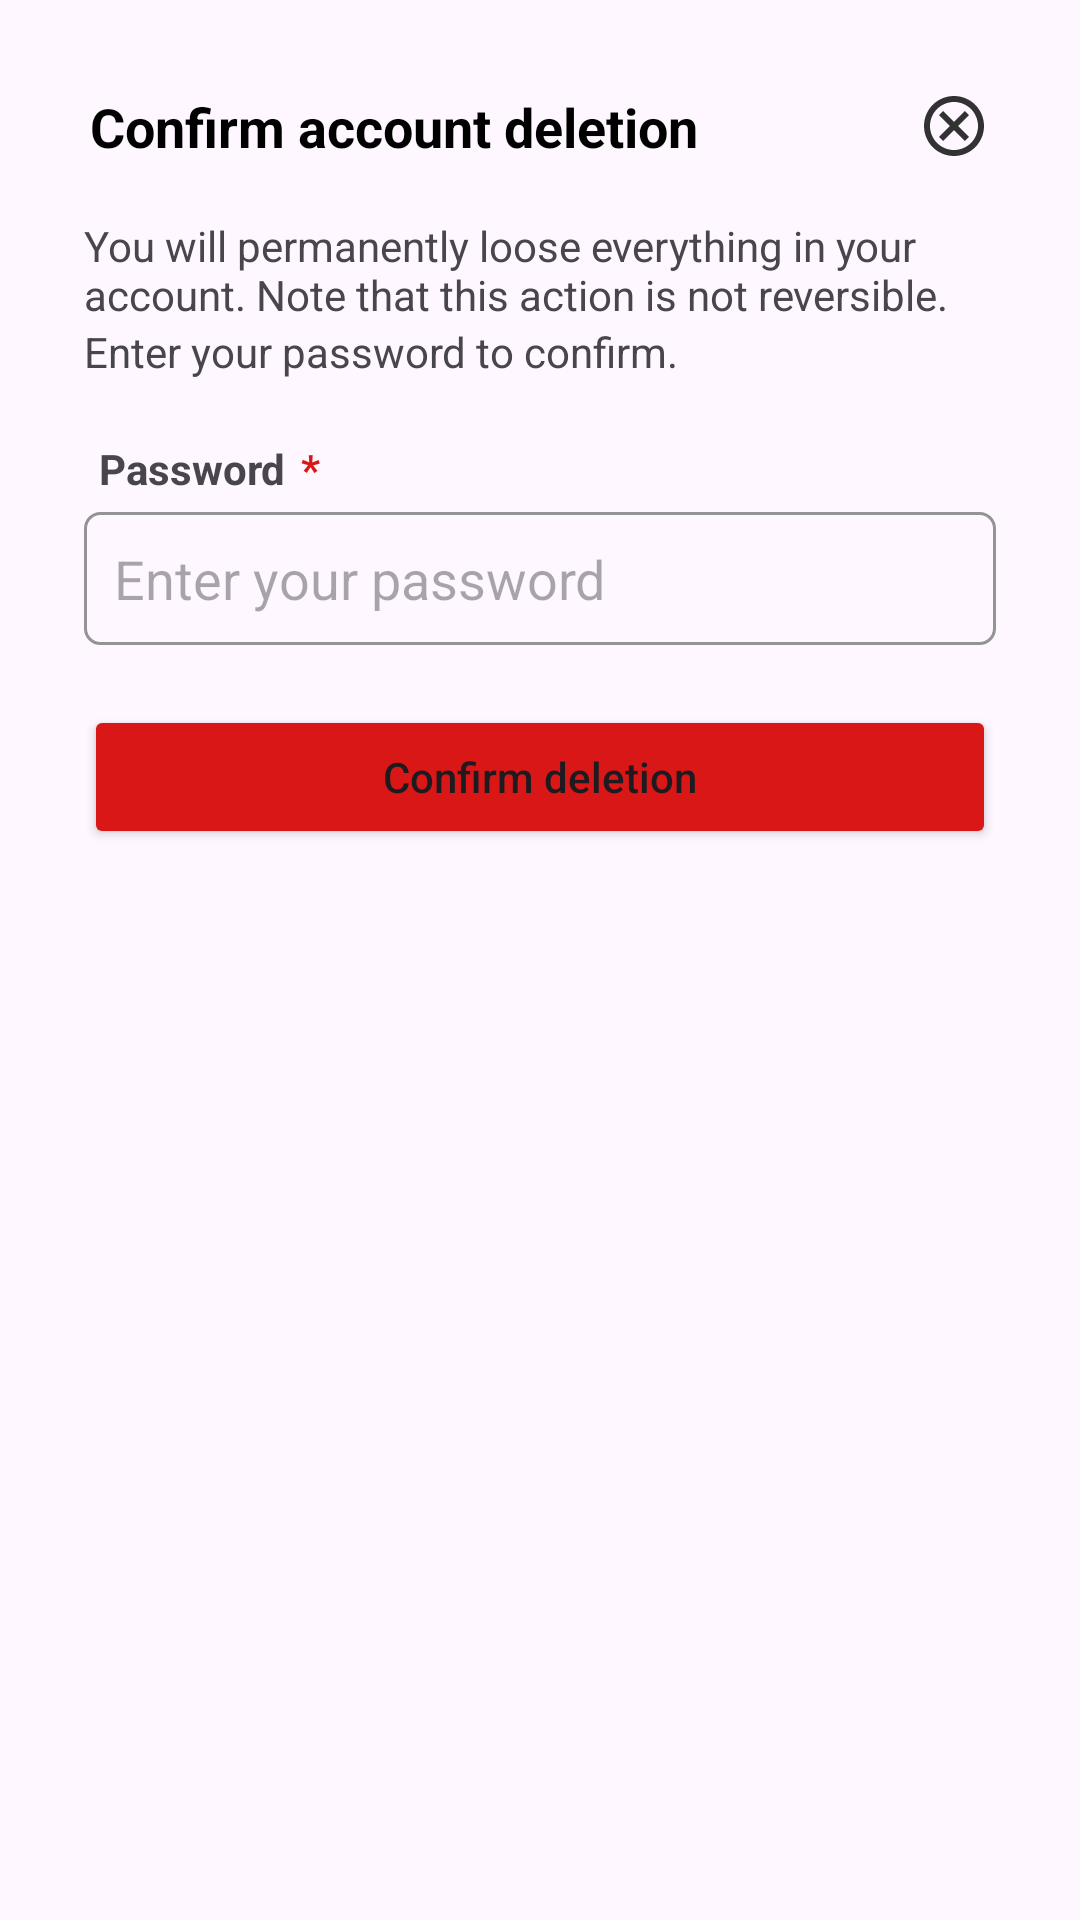

Point at icon controls on the screen. Image size 1080*1920, points as point (x, y).
cancel: point (954, 126)
